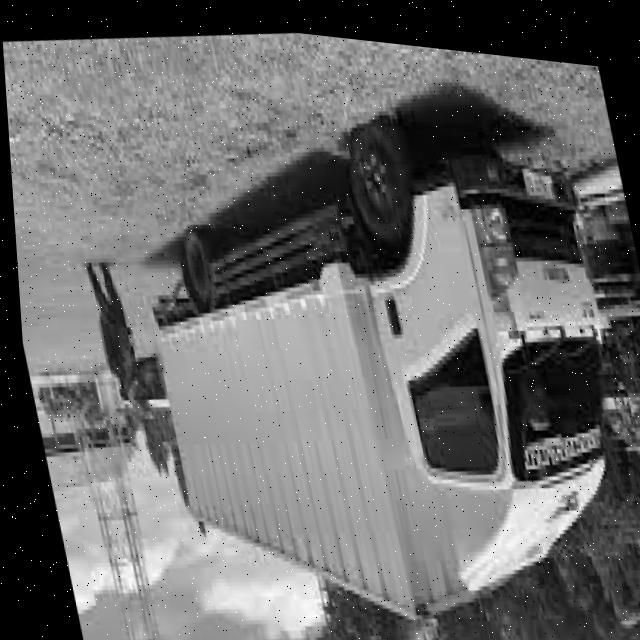truck: (313, 76, 640, 640)
